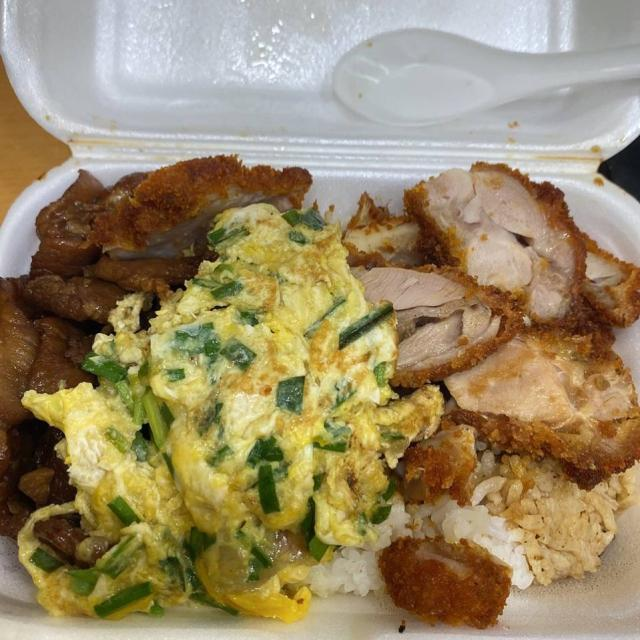Chicken: (343, 162, 639, 501), (31, 155, 312, 292), (380, 538, 509, 628)
Egg: (18, 200, 444, 622)
Pork: (0, 275, 127, 425)
Rice: (307, 450, 639, 597)
